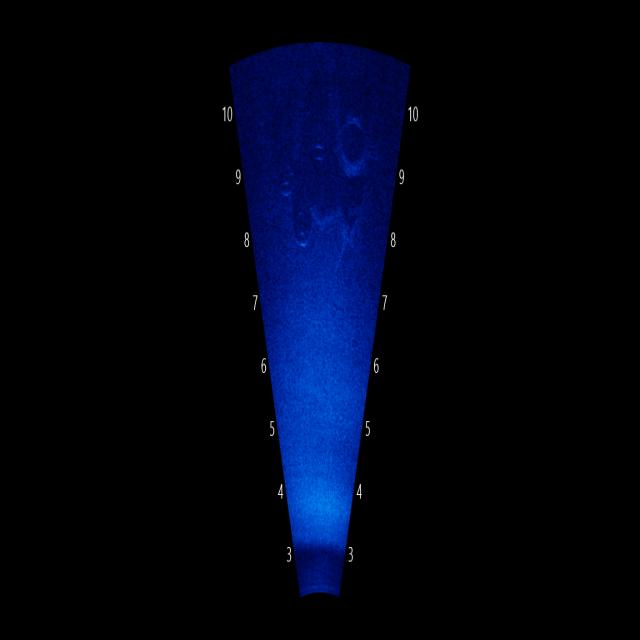circle: (338, 94, 376, 184), (304, 104, 334, 182), (290, 190, 325, 247), (269, 160, 304, 212)
